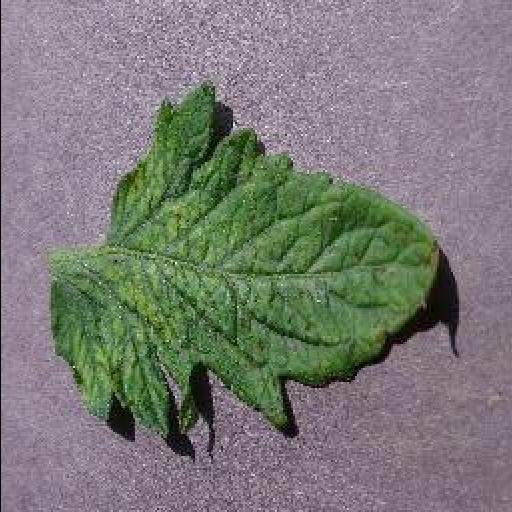Mosaic Virus: (45, 77, 443, 439)
